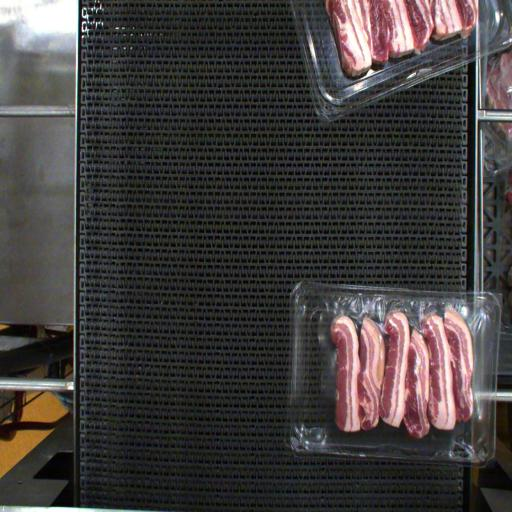unsealed: (302, 278, 493, 468)
